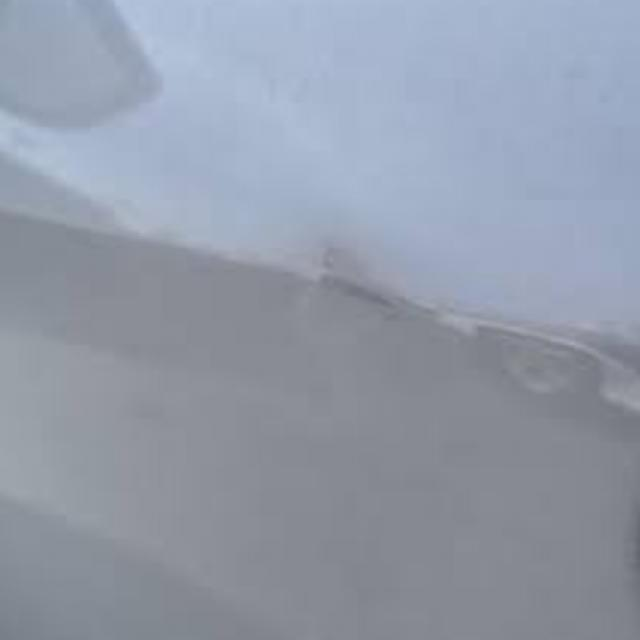dents: (463, 310, 617, 456), (280, 226, 402, 333)
